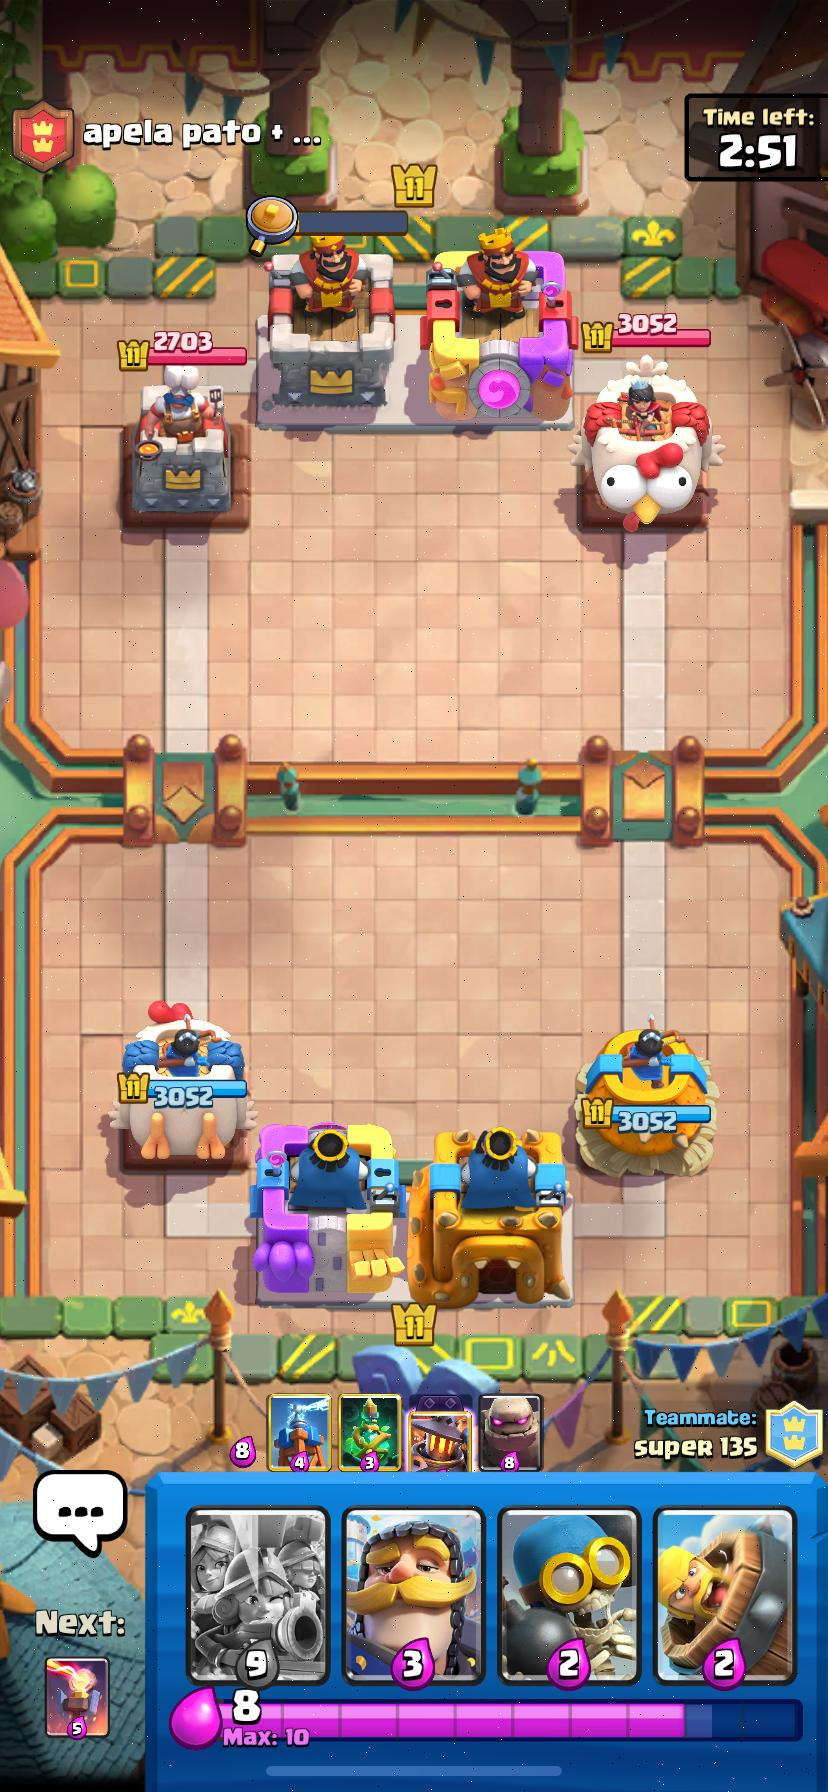EKingTower: (425, 230, 576, 422), (257, 238, 395, 423)
EnemyPanTower: (121, 361, 250, 528)
EnemyPrincessTower: (573, 355, 720, 530)
OwnKingTower: (408, 1127, 571, 1307), (250, 1123, 403, 1303)
OwnPrincessTower: (109, 1001, 255, 1161), (576, 1017, 717, 1176)
